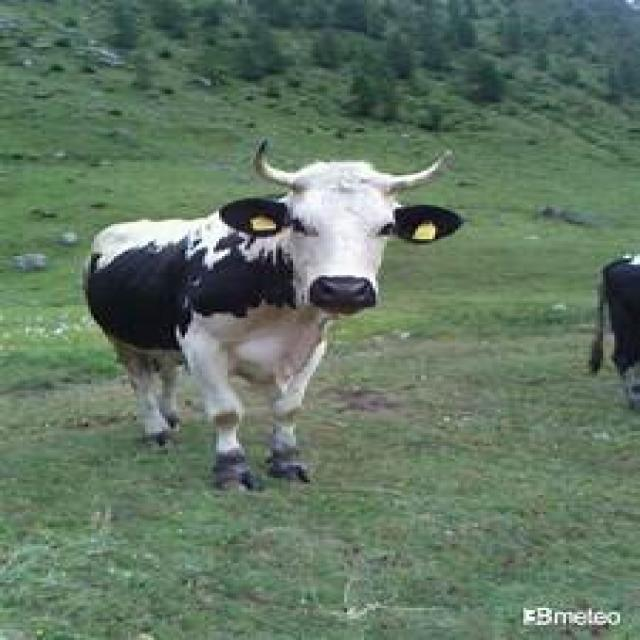cow: (87, 141, 462, 488)
